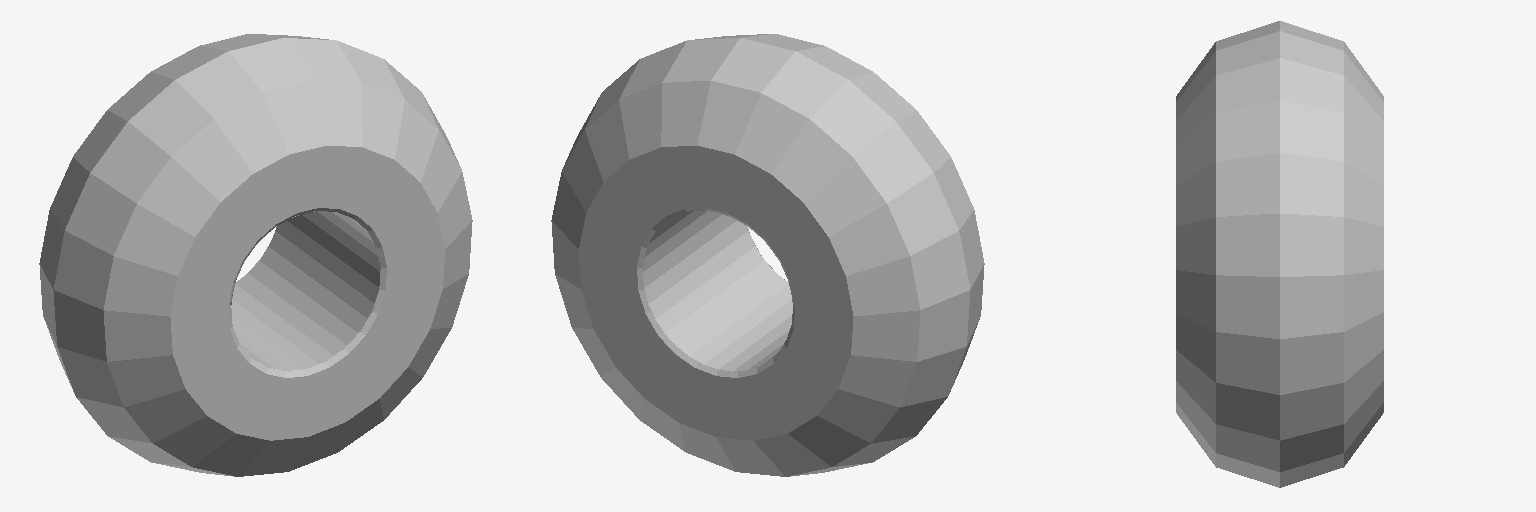
The model's file is wheel.obj.
3 views of the same model, side by side, from view 1: azimuth 30°, elevation 25°; view 2: azimuth 150°, elevation 25°; view 3: azimuth 270°, elevation 25° (orthographic).
Visible parts, largest first — view 1: Torus.002_Torus.013; view 2: Torus.002_Torus.013; view 3: Torus.002_Torus.013.
Boxes of the visible parts, <box> form: Torus.002_Torus.013: <box>39,34,472,476</box>; Torus.002_Torus.013: <box>551,34,984,476</box>; Torus.002_Torus.013: <box>1176,21,1383,487</box>.
Size of the model in its own units: 1.1 by 1.09 by 0.4857.